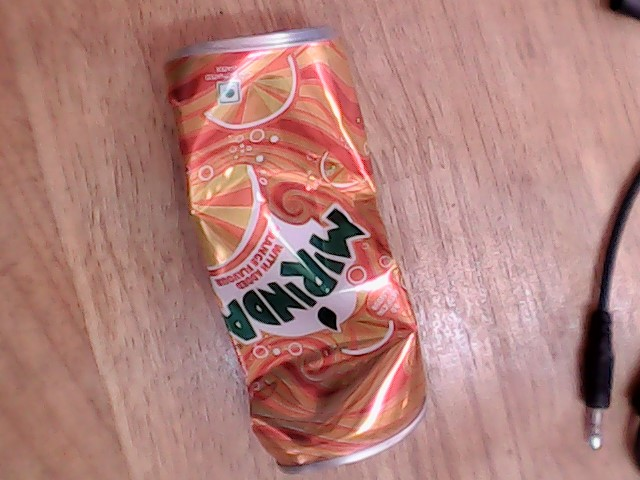Metal: (145, 30, 436, 480)
